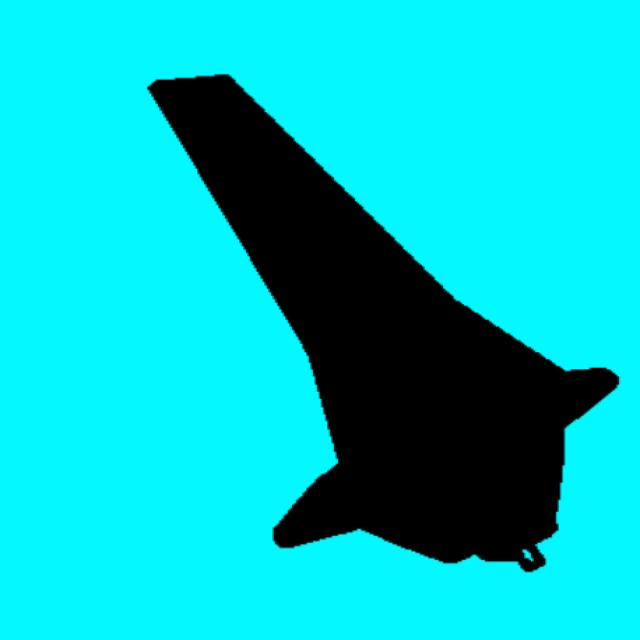BlackBuoy: (150, 75, 617, 571)
